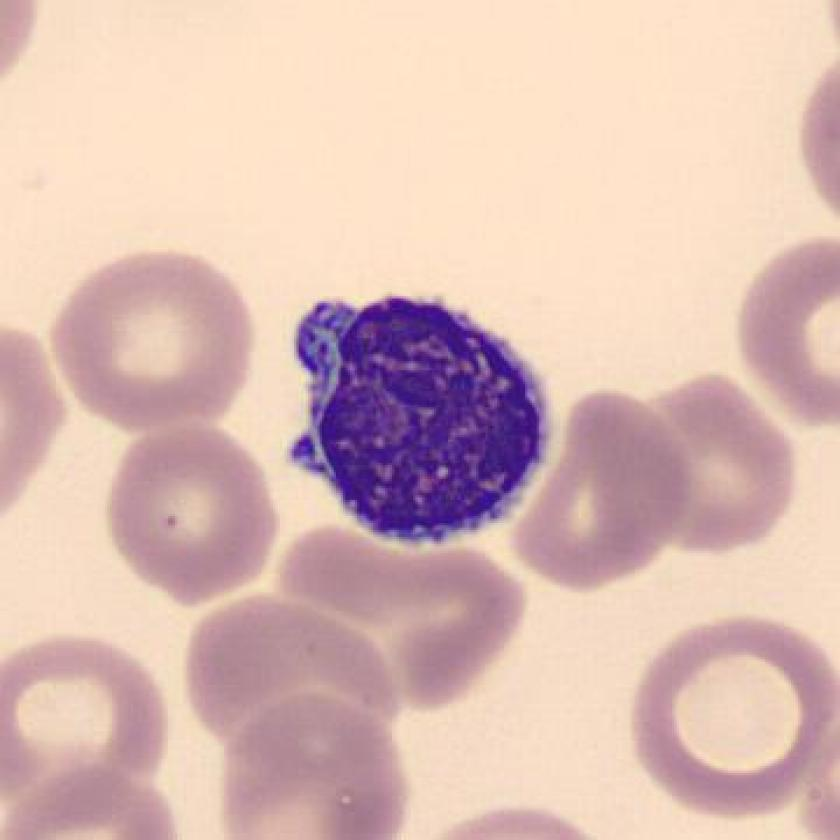lymphocyte: (270, 276, 571, 561)
